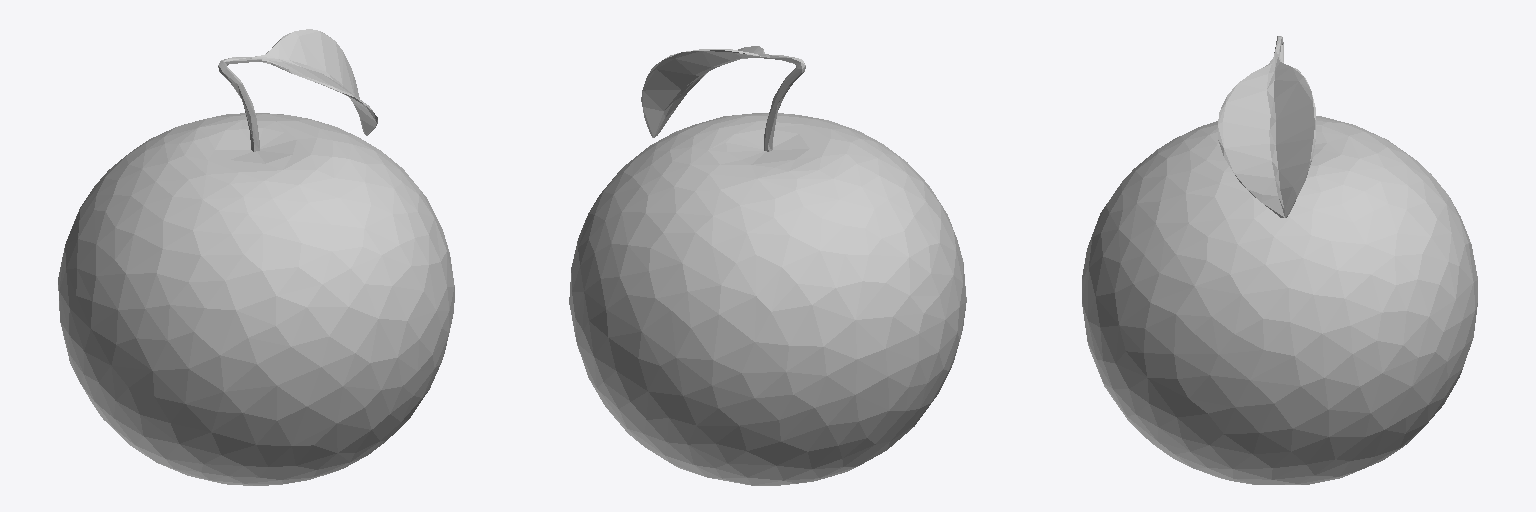
The model's file is Orange.obj.
3 views of the same model, side by side, from view 1: azimuth 30°, elevation 25°; view 2: azimuth 150°, elevation 25°; view 3: azimuth 270°, elevation 25° (orthographic).
Visible parts, largest first — view 1: Orange; view 2: Orange; view 3: Orange.
Boxes of the visible parts, x1=… form: Orange: x1=58, y1=29, x2=454, y2=485; Orange: x1=569, y1=46, x2=966, y2=485; Orange: x1=1082, y1=36, x2=1477, y2=484.
Bounding box in the file's own units: 0.0998 × 0.1138 × 0.1001.